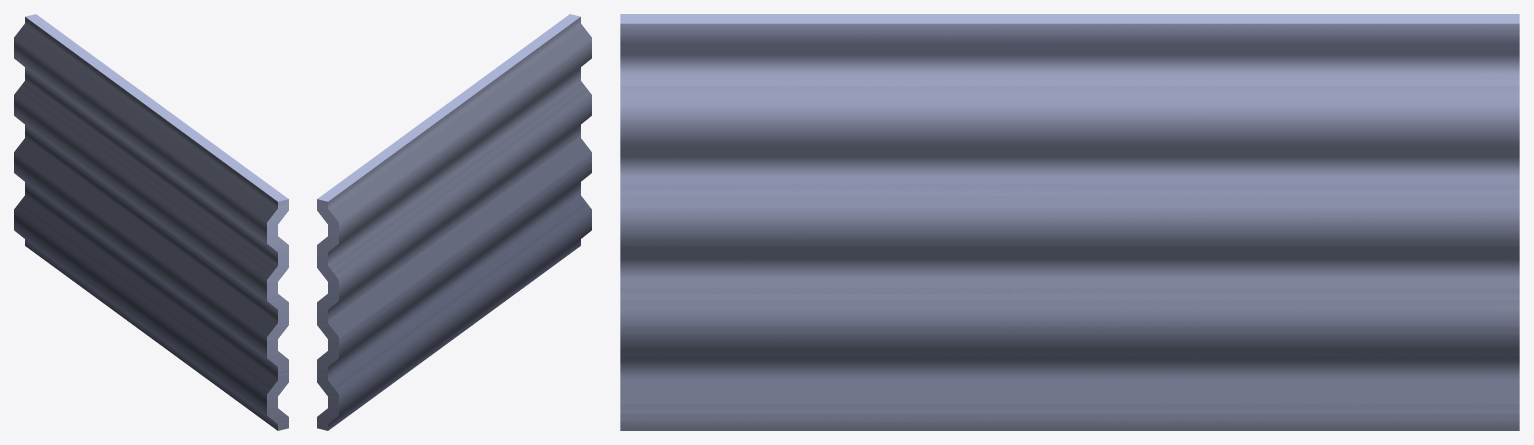
File: plating-wide.glb
The picture shows the model from 3 angles, left to right: view 1: azimuth 30°, elevation 25°; view 2: azimuth 150°, elevation 25°; view 3: azimuth 270°, elevation 25°; orthographic projection. The views are drawn at different scales.
Visible parts, largest first — view 1: plating-wide; view 2: plating-wide; view 3: plating-wide.
Part boxes in pixels (x1,y1,x2,y2): plating-wide: [14, 14, 288, 430]; plating-wide: [317, 14, 591, 430]; plating-wide: [620, 14, 1519, 430].
Bounding box in the file's own units: 0.1 × 1 × 2.
Materials: 1 (1 with a texture image).
